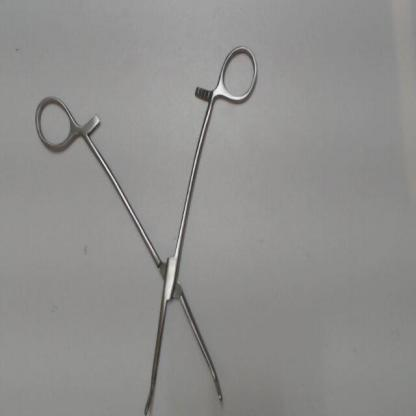Lahey Forceps: (21, 37, 264, 415)
